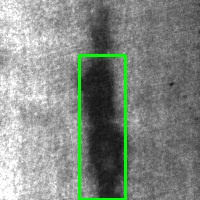patches: (79, 55, 125, 199)
